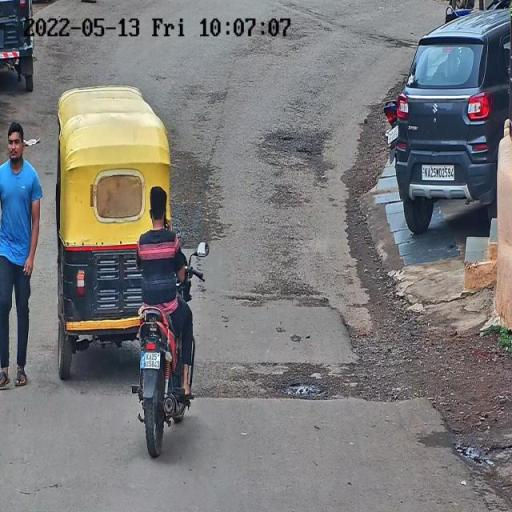using mobile: (160, 202, 172, 230)
